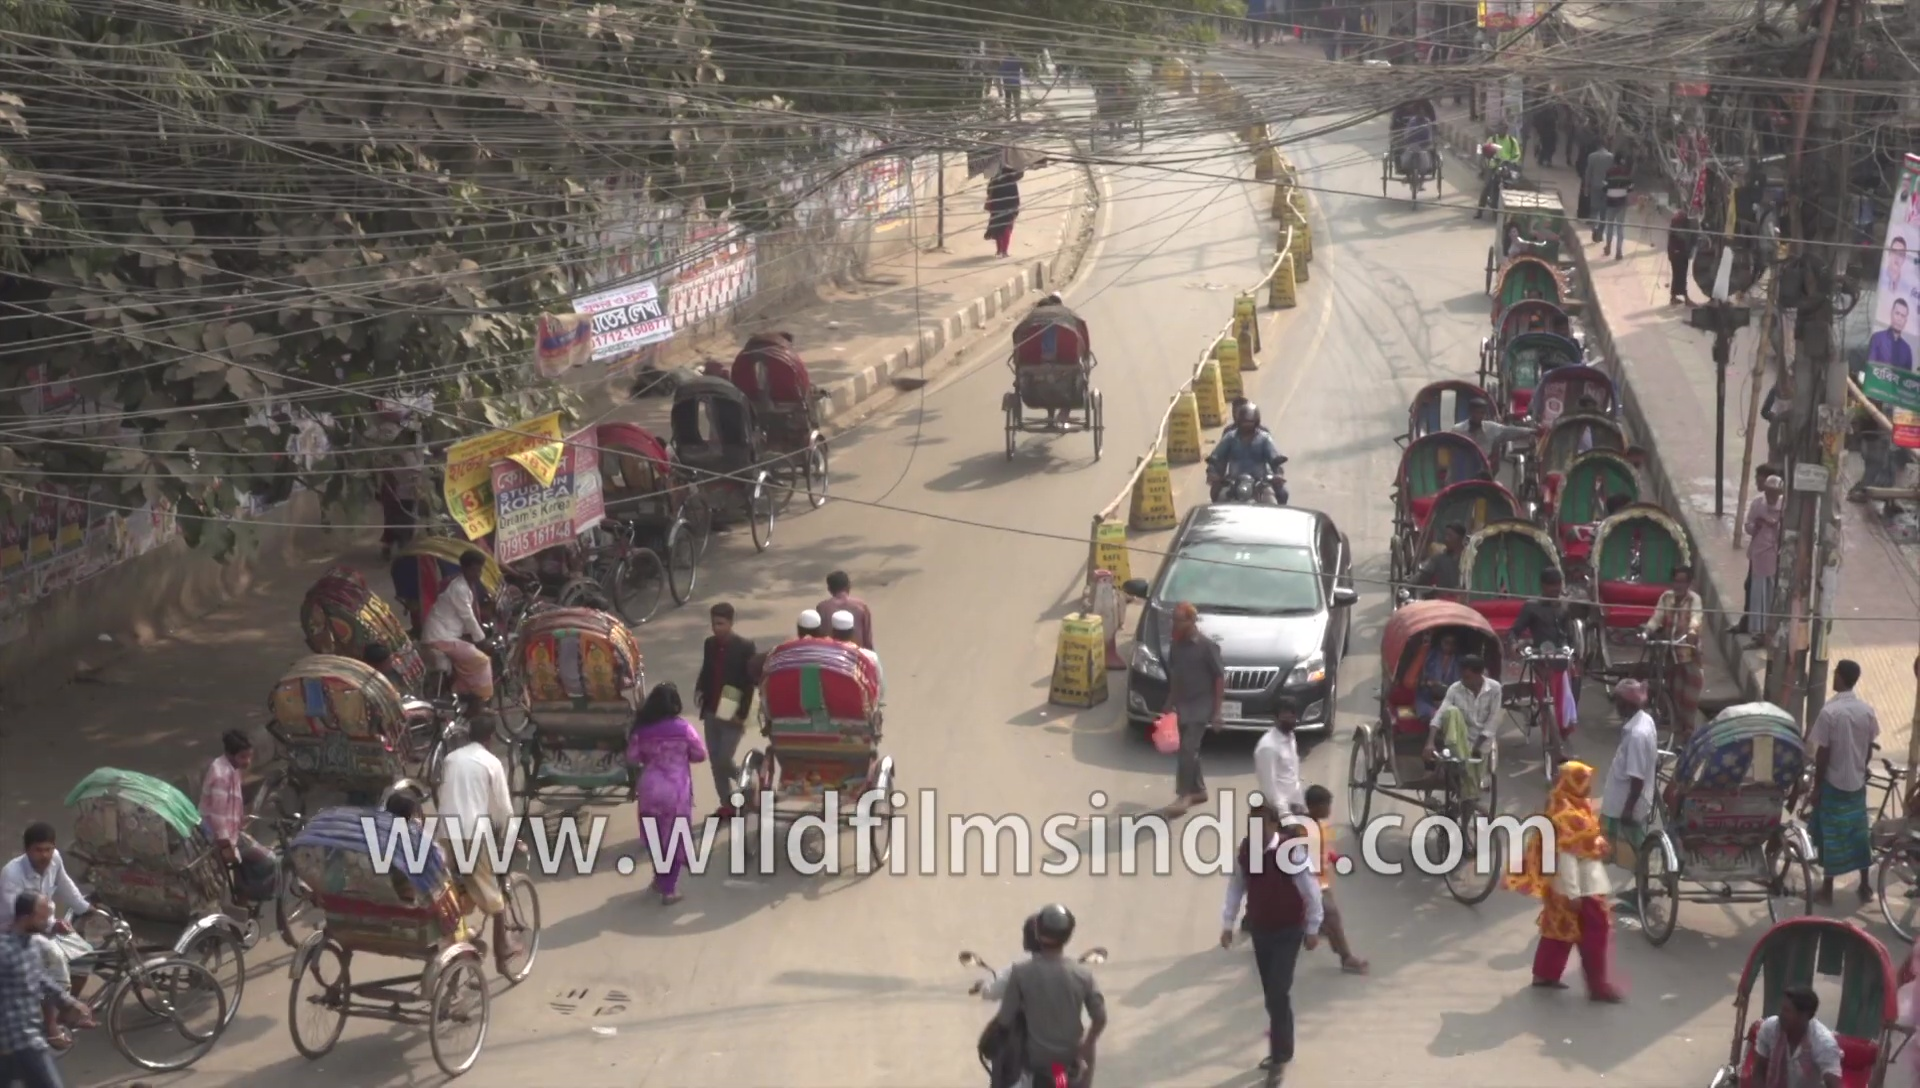5: (272, 804, 545, 1076), (1607, 677, 1821, 934), (1353, 596, 1509, 909), (741, 634, 910, 872), (509, 604, 644, 822), (994, 302, 1110, 469)
car: (1134, 501, 1357, 739)
